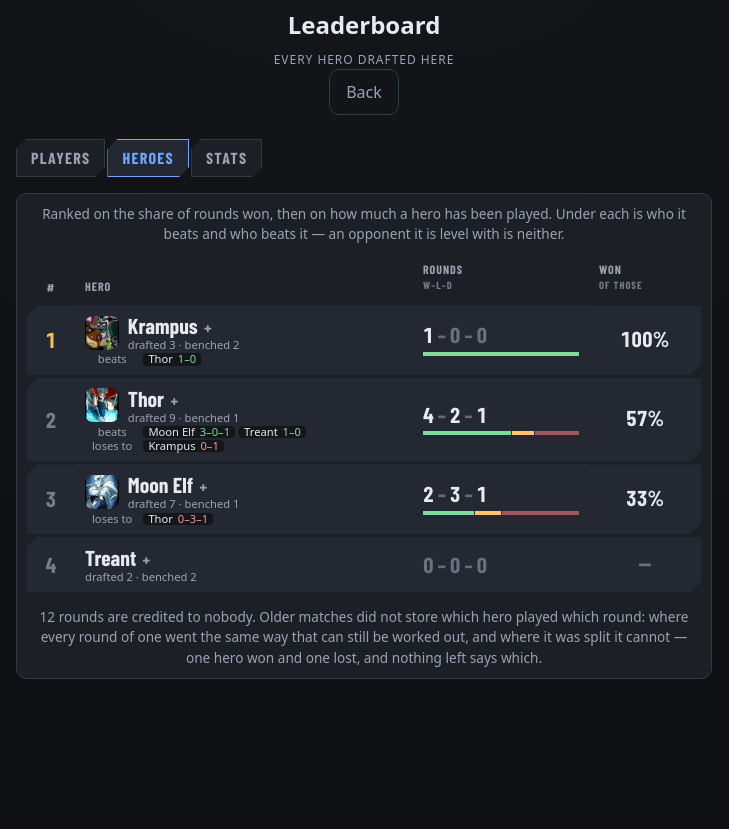
opening a hero › lists each round with who played it, the format and the opponent
Click the button "Thor + drafted 9 · benched 1" at point(102, 405), box left=85, top=387, right=403, bottom=424
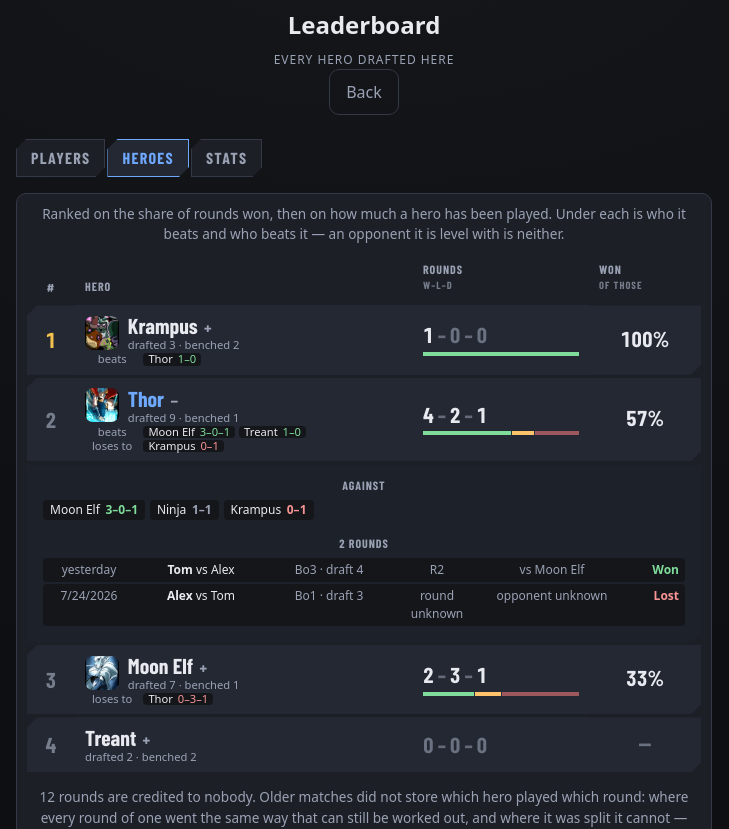
expect the list item "yesterday Tom vs Alex Bo3 · draft 4 R2 vs Moon Elf Won" is shown: met, box left=43, top=558, right=685, bottom=582
